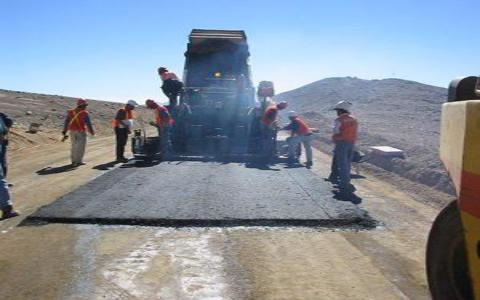Proper road: (99, 174, 312, 254)
